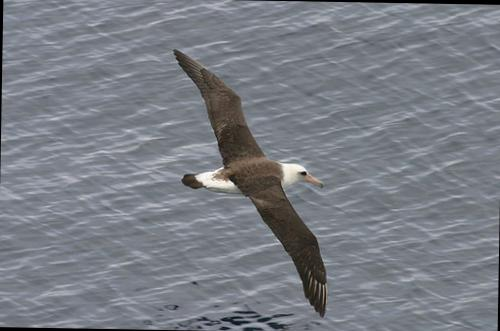bird: (154, 38, 347, 322)
